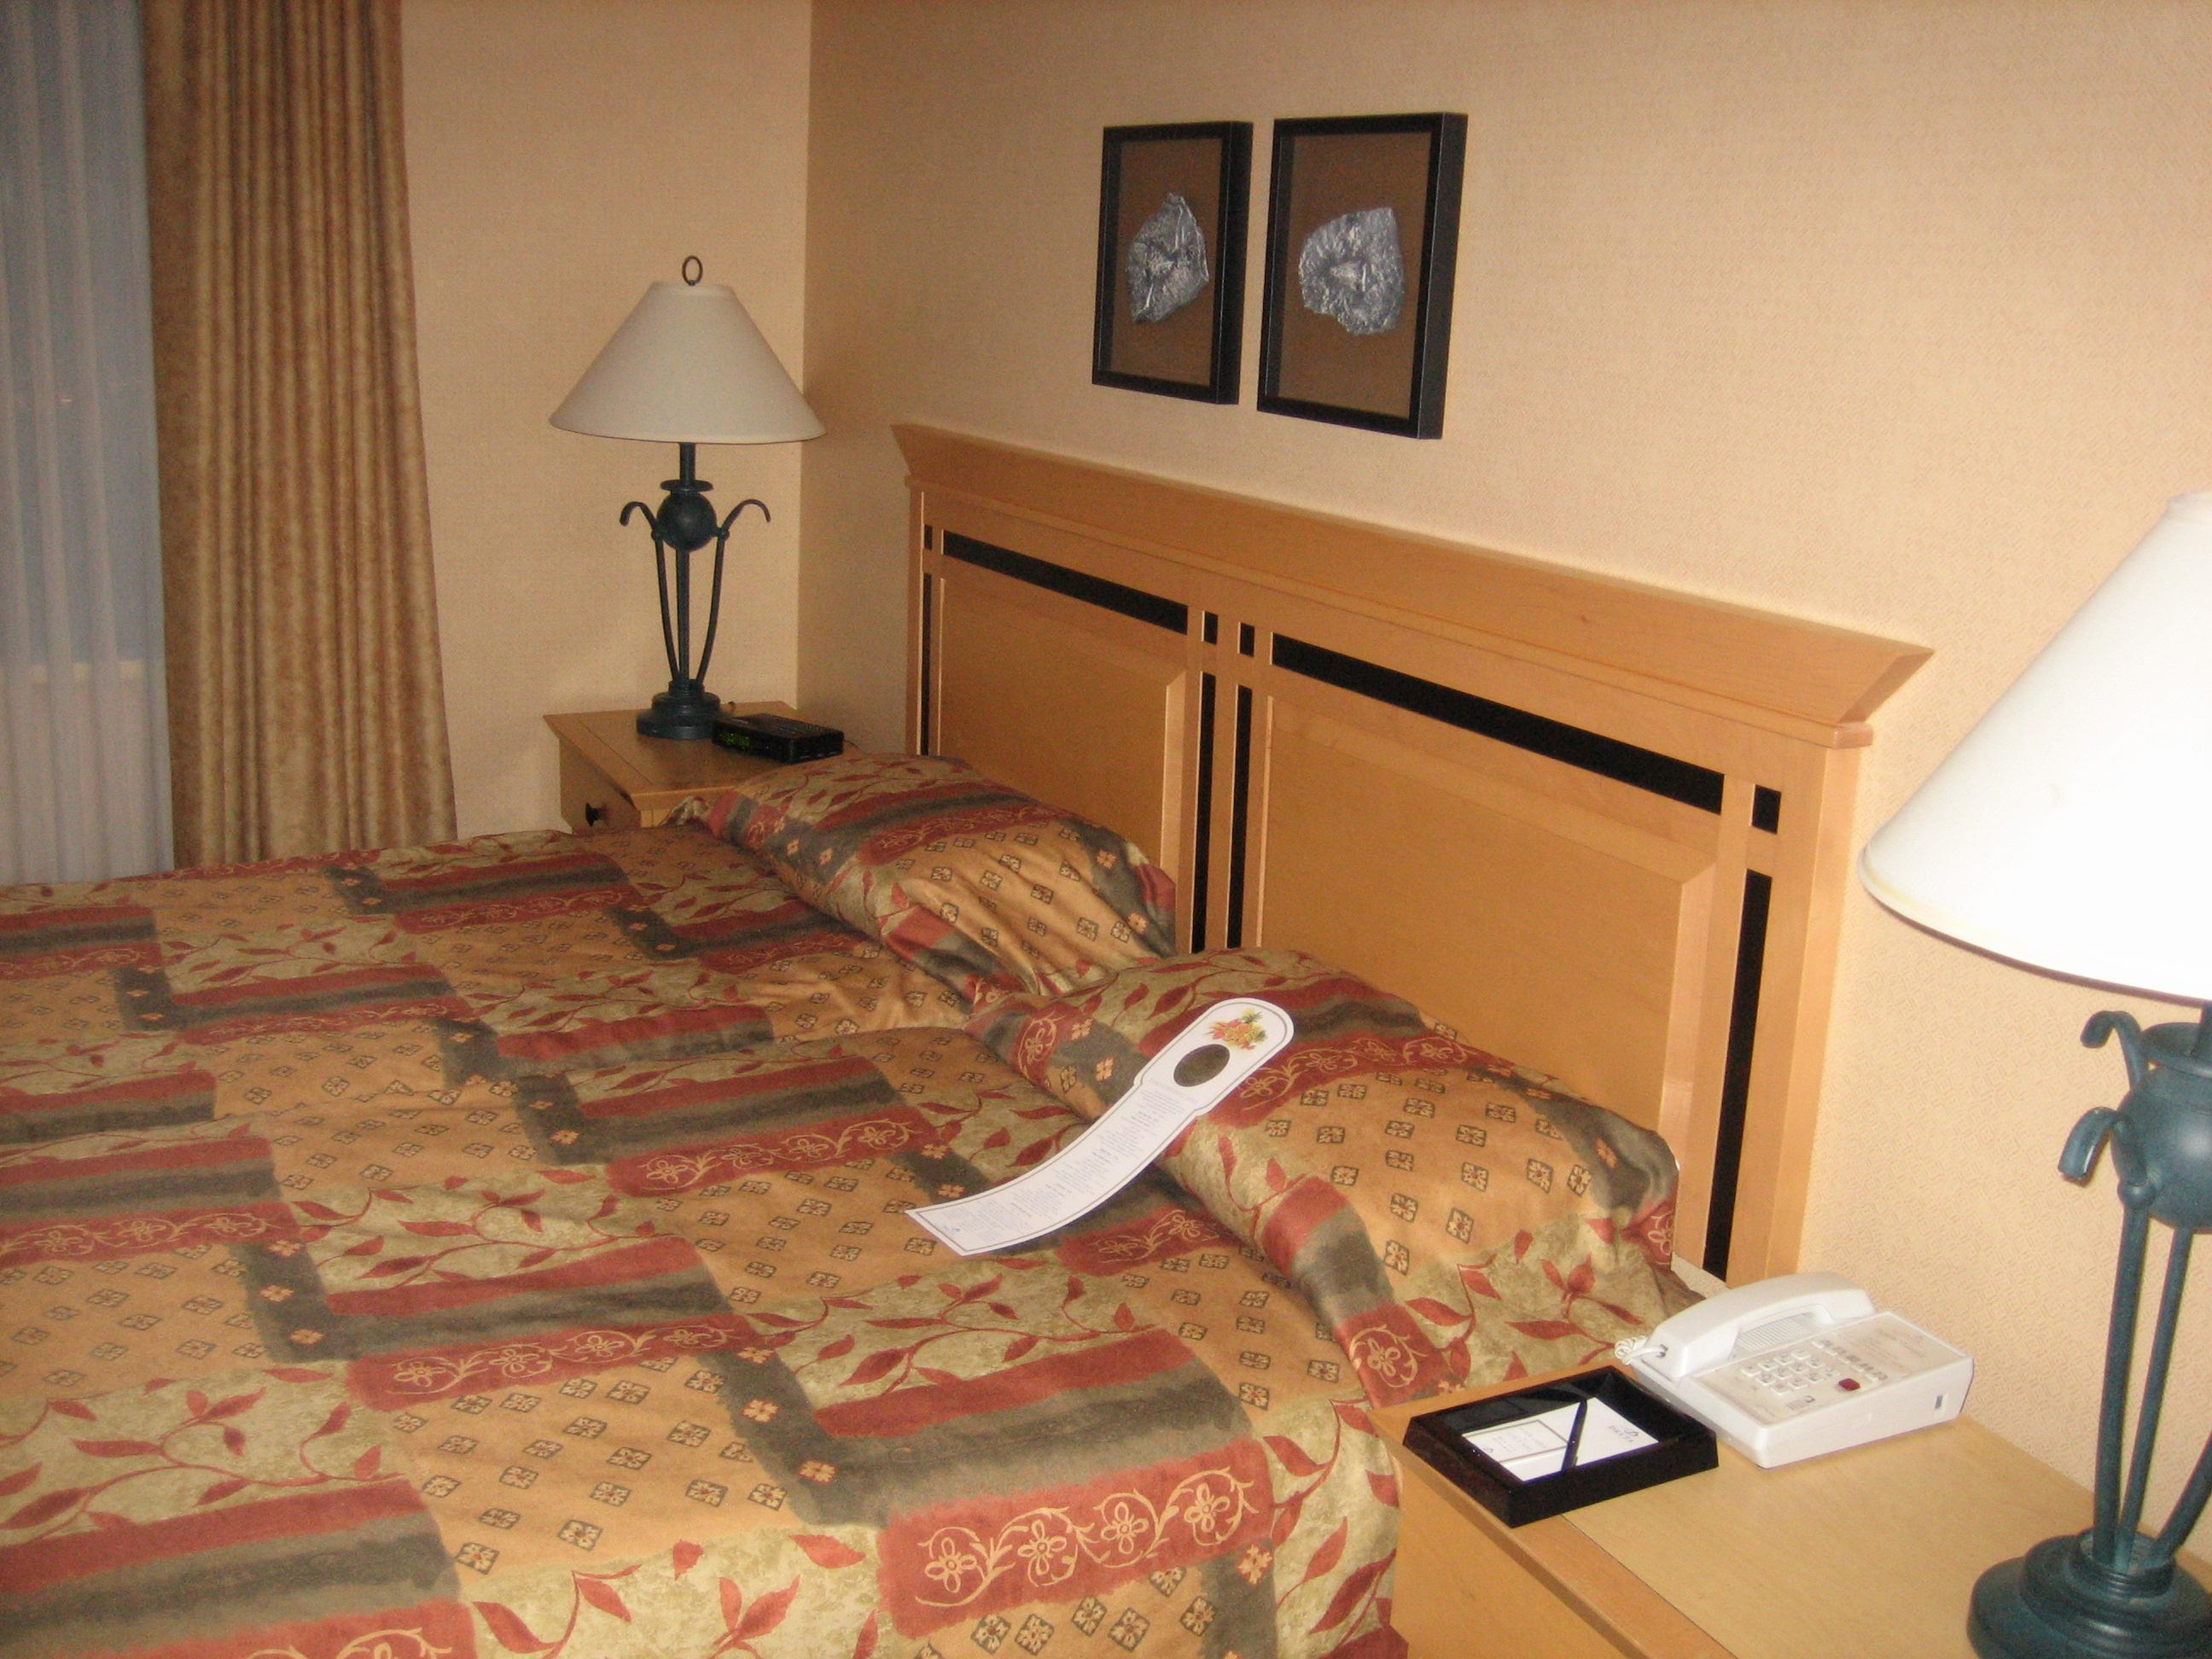Cama: (16, 746, 1681, 1652)
Ventana: (7, 42, 378, 845)
